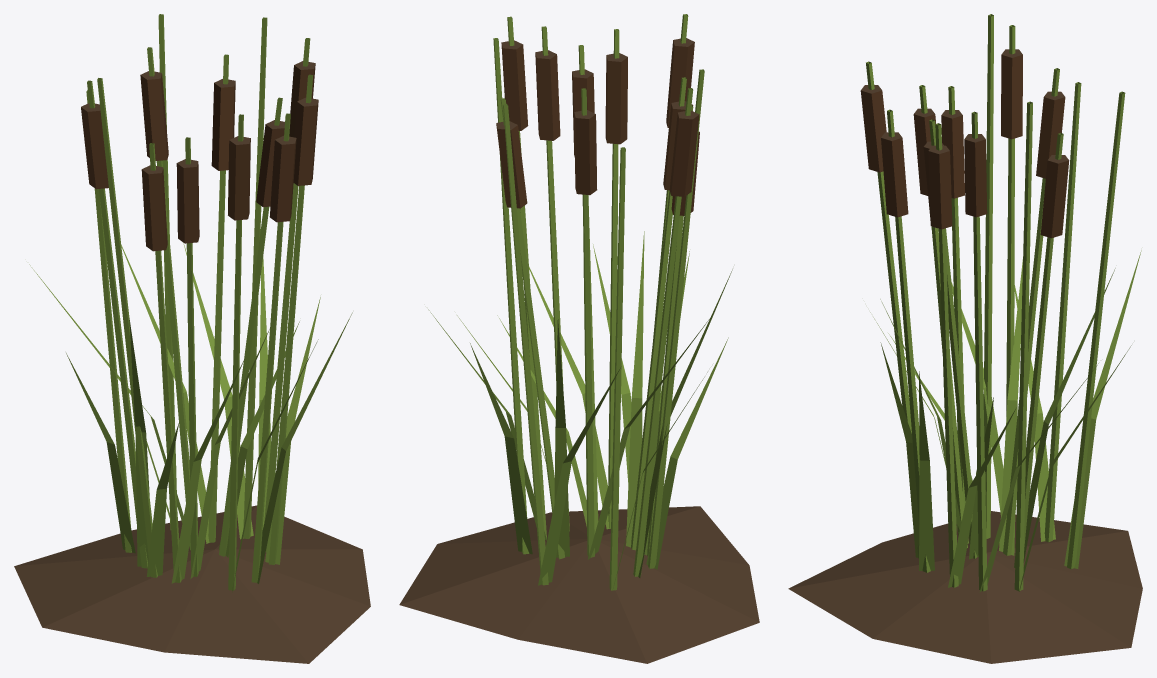
File: reed_clump.glb
3 renders of one model, left to right at view 1: azimuth 30°, elevation 25°; view 2: azimuth 150°, elevation 25°; view 3: azimuth 270°, elevation 25°, orthographic. The views are drawn at different scales.
Parts seen in each view (by area): view 1: reed_clump; view 2: reed_clump; view 3: reed_clump.
Part boxes in pixels (left/top/right/bottom): reed_clump: left=14, top=14, right=370, bottom=663; reed_clump: left=399, top=14, right=759, bottom=663; reed_clump: left=788, top=14, right=1142, bottom=663.
Size of the model in its own units: 1.02 by 1.62 by 0.9963.
